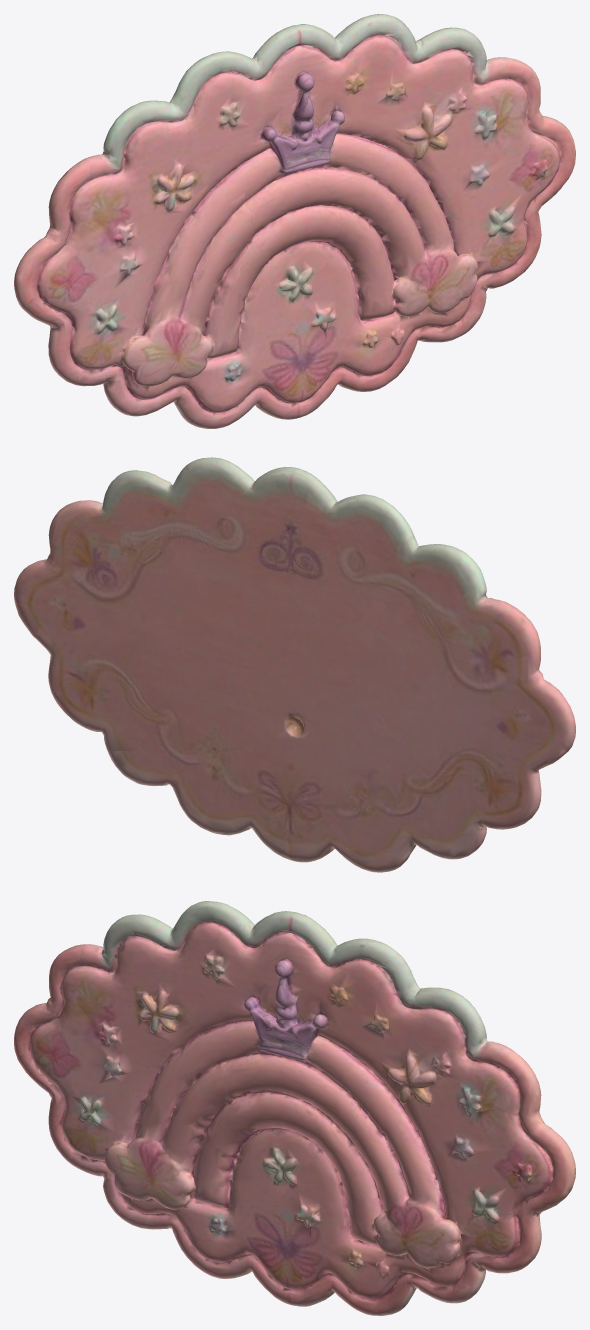
3 renders of one model, top to bottom at view 1: azimuth 30°, elevation 25°; view 2: azimuth 150°, elevation 25°; view 3: azimuth 330°, elevation 25°, orthographic.
Size of the model in its own units: 1.9 by 1.27 by 0.1179.
1 material, 1 textured.
